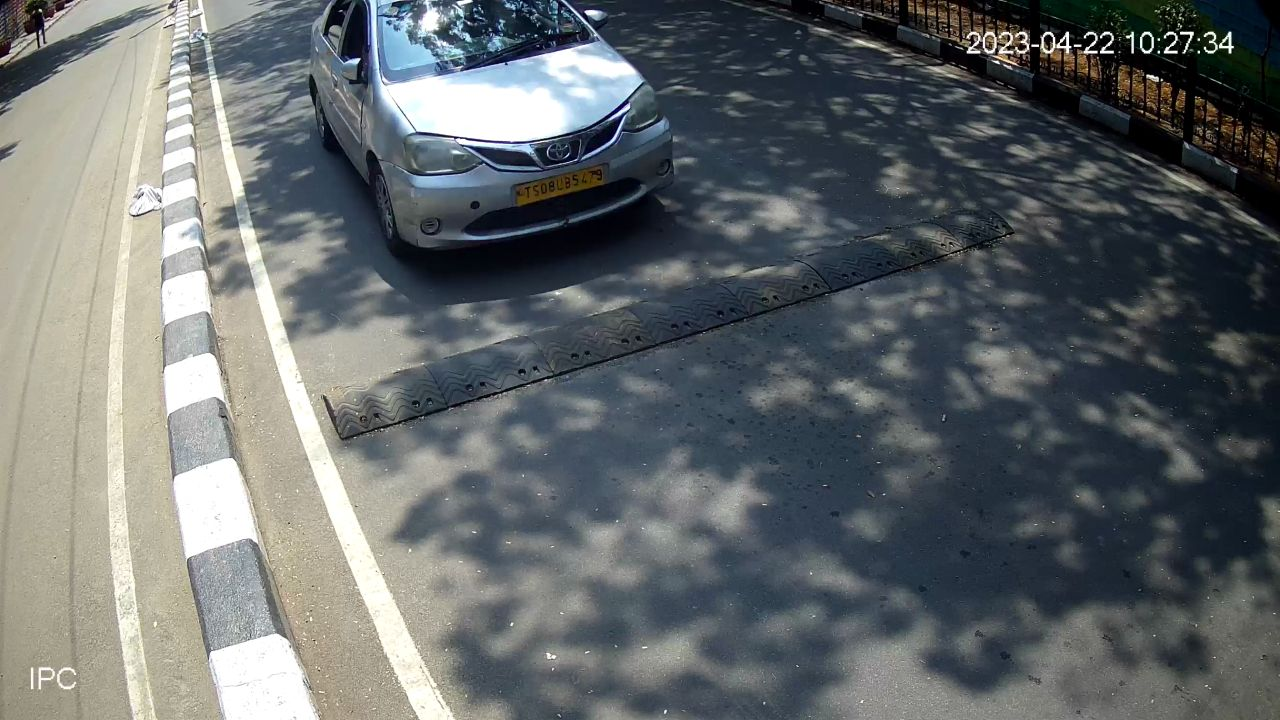license_plate: (505, 158, 617, 215)
